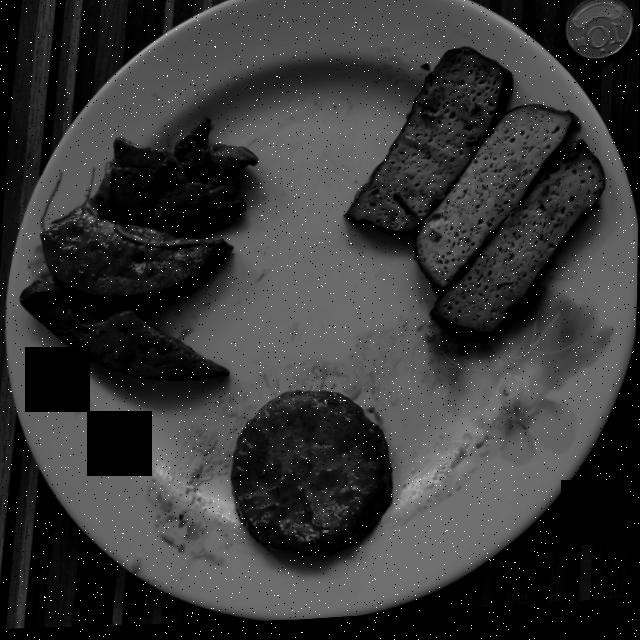coin: (565, 4, 633, 66)
firm tofu: (346, 53, 604, 338)
fish cake: (231, 394, 393, 559)
pig liver: (21, 120, 257, 382)
